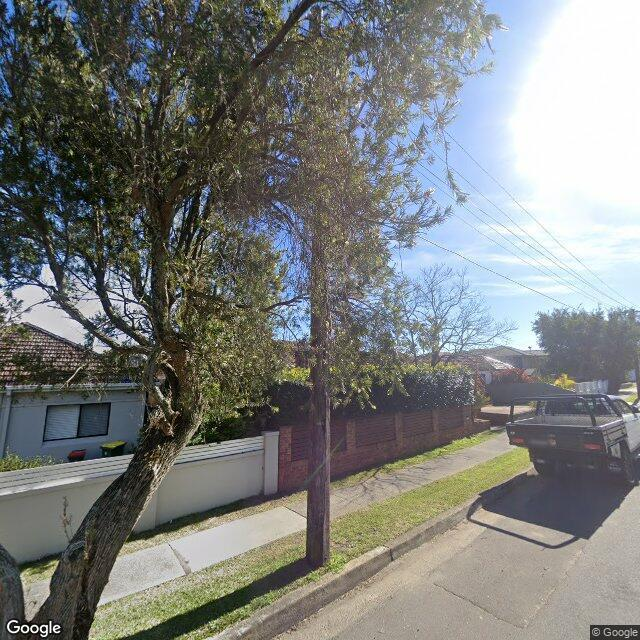timber-pole: (304, 4, 334, 569)
